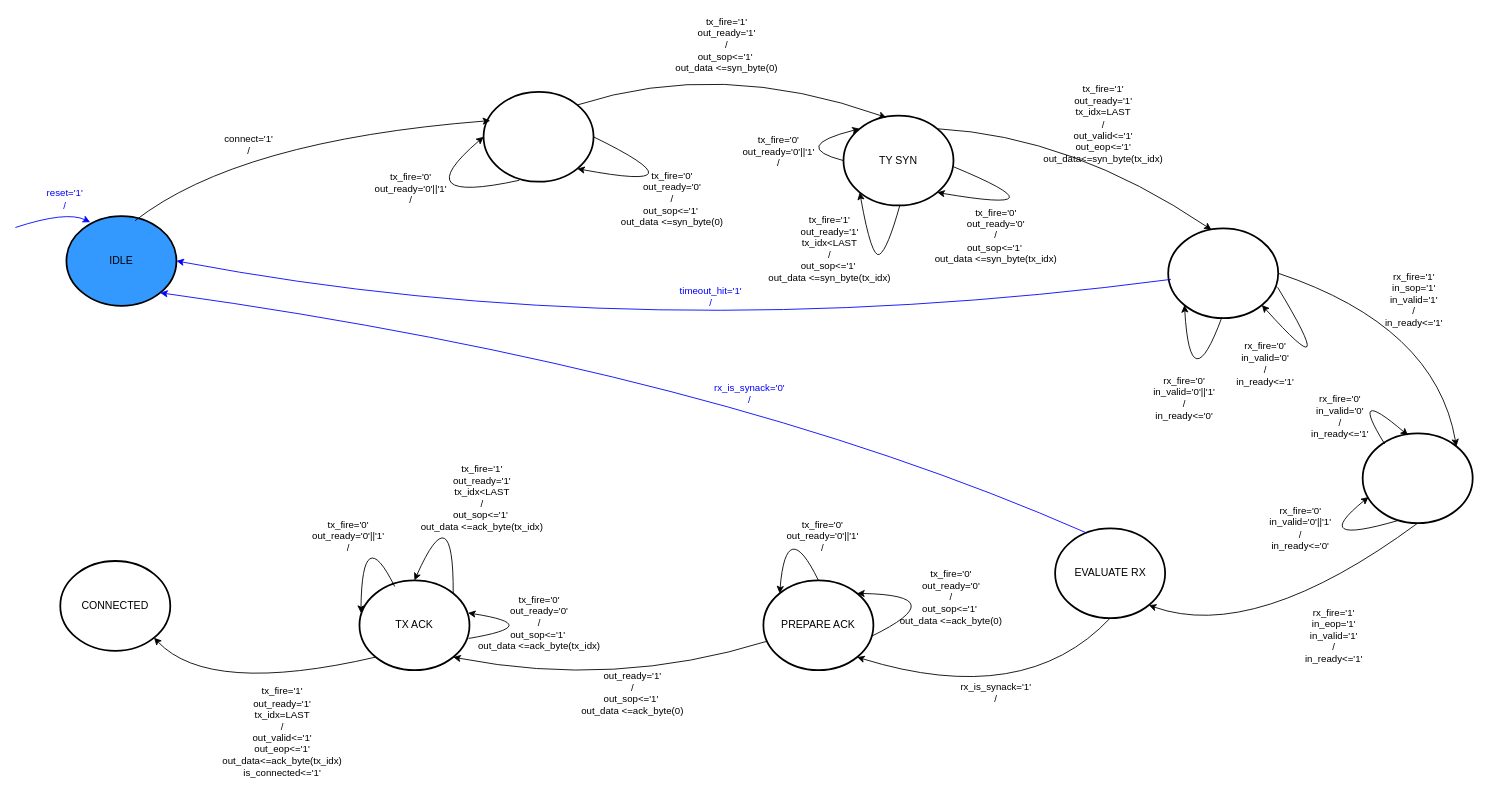
Some shapes in this 1511 by 793 pixel diagram are drawn without their labels. The shapes that lost their labels are listed below. From the top down, each one's centre as x and y in pixels, then its label:
(538,136): PREPARE SYN
(1223,273): WAIT RX
(1417,478): RX FRAME
